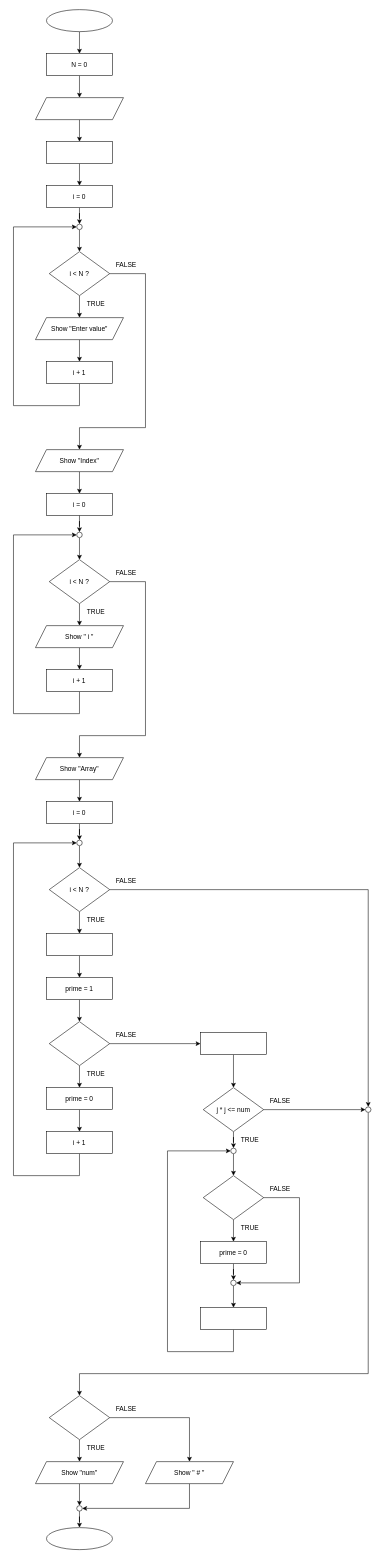
The diagram is 382 pixels wide and 1559 high, and some of its shapes have lost their labels. Here are the shapes that lost their labels. From the top down, the centre of each, then its label:
[79,20]: Start
[79,108]: Show "Enter N "
[79,152]: Array[N]
[79,944]: num = Array[ i ]
[79,1043]: num < 2 ?
[233,1043]: j = 2
[233,1197]: num mod j
[233,1318]: j + 1
[79,1417]: prime == 0 ?
[79,1538]: END
